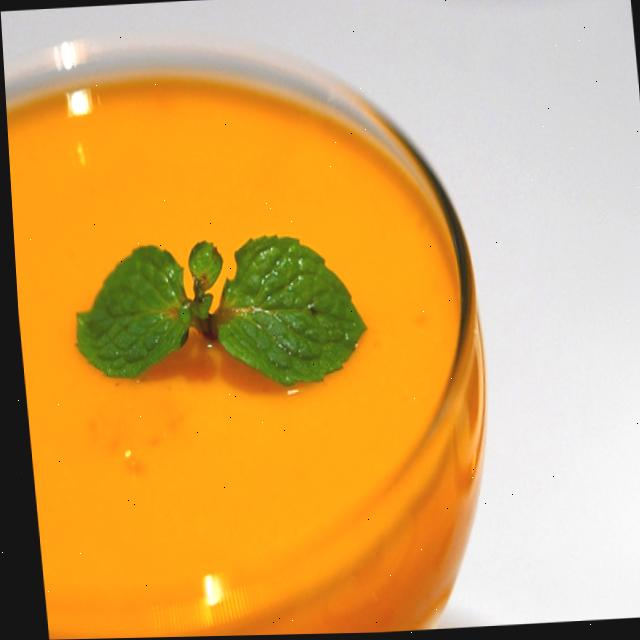蛋糕甜品: (3, 49, 496, 637)
